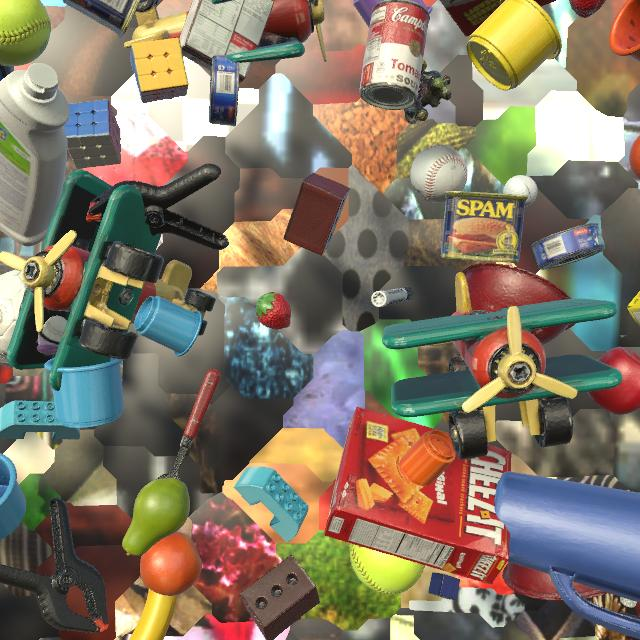ycb_003_cracker_box: (324, 406, 512, 585), (440, 0, 556, 37)
ycb_004_sugar_box: (627, 291, 640, 326)
ycb_005_tomato_soup_can: (360, 0, 430, 110)
ycb_007_tuna_fish_can: (531, 223, 605, 270), (209, 55, 240, 127)
ycb_008_pudding_box: (179, 0, 274, 83)
ycb_010_potted_meat_can: (441, 191, 528, 263), (63, 0, 140, 38)
ycb_011_banana: (129, 589, 178, 640)
ycb_012_strawberry: (255, 292, 291, 329), (569, 0, 606, 18)
ycb_013_apple: (588, 347, 640, 415)
ycb_016_pear: (122, 478, 190, 556)
ycb_017_orange: (140, 532, 202, 596), (629, 135, 640, 180)
